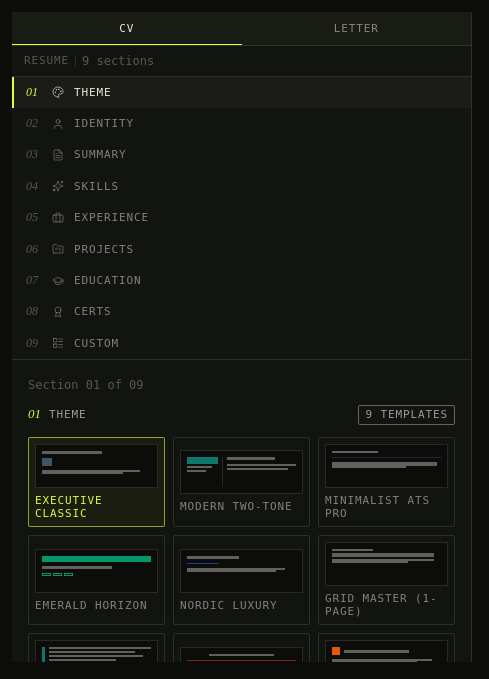
CV and Letter are separate sections › shows only the cover letter tab after switching to Letter
What coordinates should you click on to do the following:
click the tab "Letter"
I would click on:
 (356, 29)
Its box is [242,12,471,45].
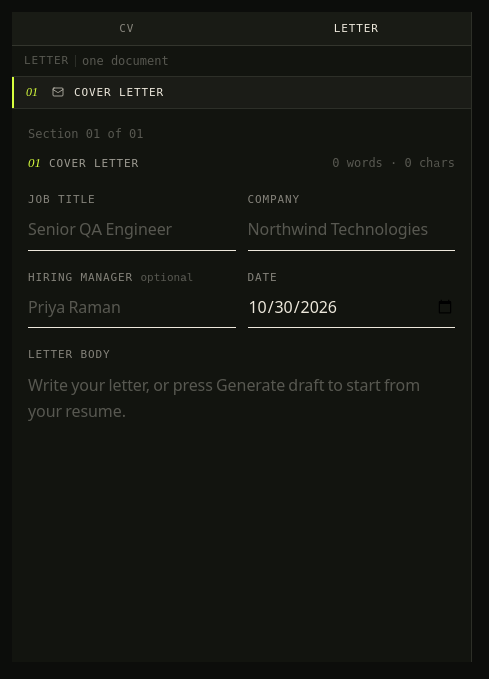
Expected: the tab "01 Cover Letter" is shown, [12,77,471,108]
Expected: the tab "Summary" is gone
Expected: the tab "Experience" is gone
